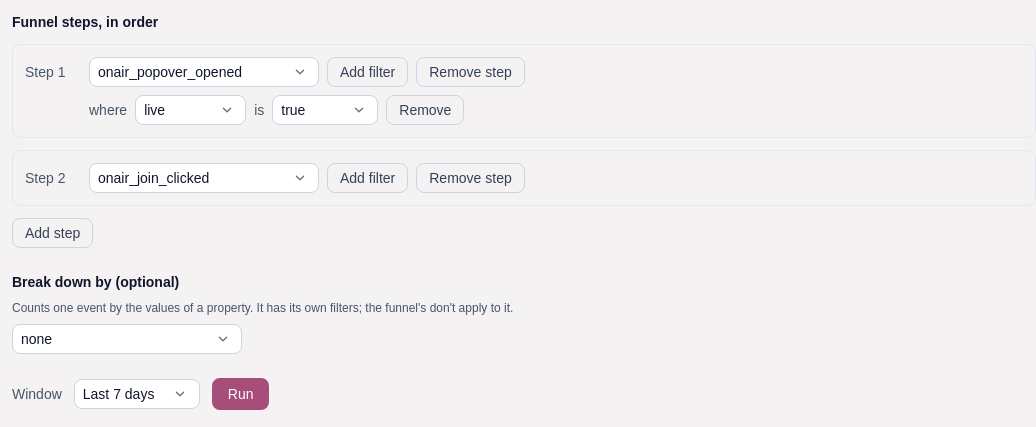
Test: ExploreForm › starts from the question in the URL, and steps can be removed
Check: the dropdown named "Step 1 filter 1 value" shows "true", box x1=272 y1=95 x2=378 y2=125
Check: the dropdown labelled "Window" shows "Last 7 days", box x1=74 y1=379 x2=200 y2=409
Click the 1st button "Remove step".
click(471, 72)  # box x1=416 y1=57 x2=525 y2=87
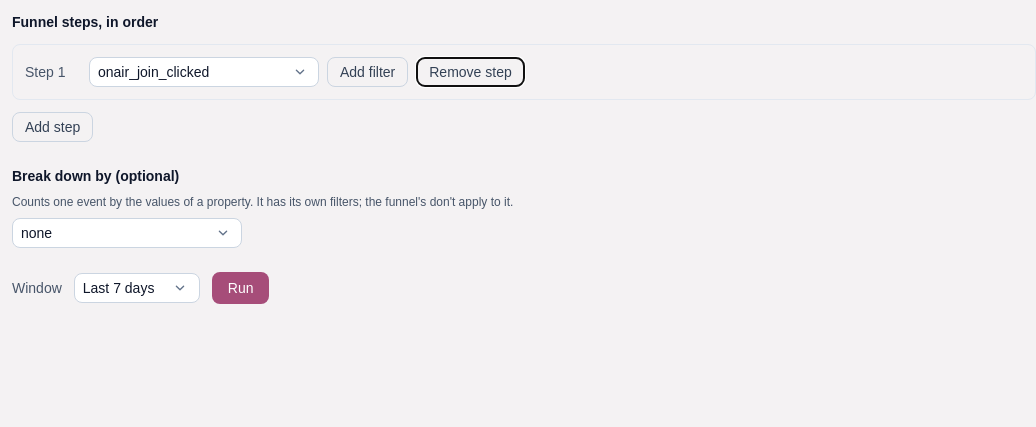
Check: the dropdown named "Step 1 event" shows "onair_join_clicked", box x1=89 y1=57 x2=319 y2=87
